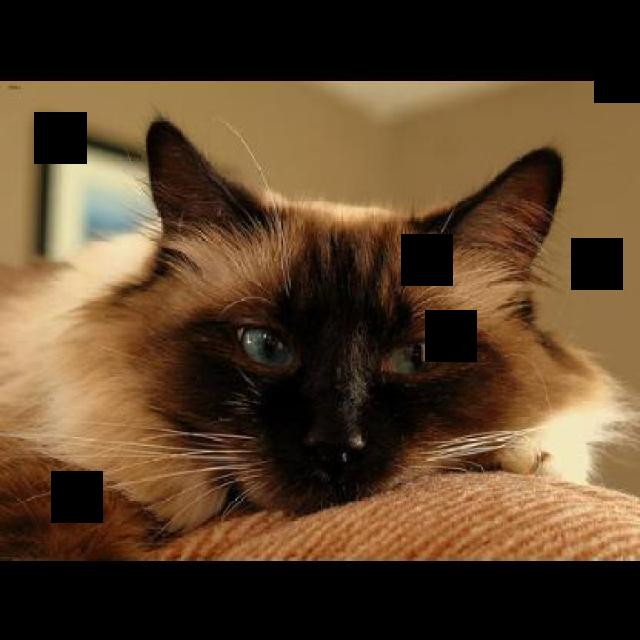unauthorized: (0, 110, 638, 558)
